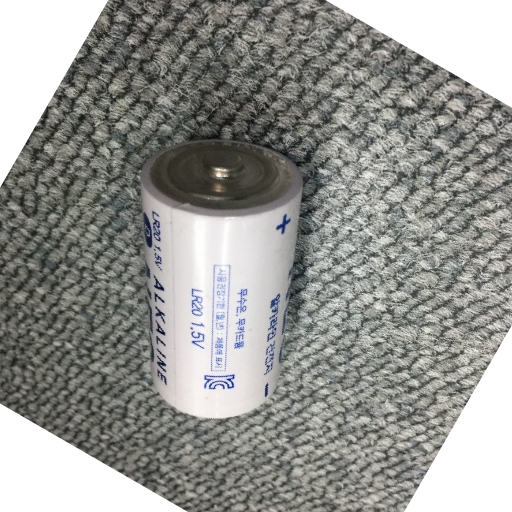Battery_0: (124, 125, 308, 430)
